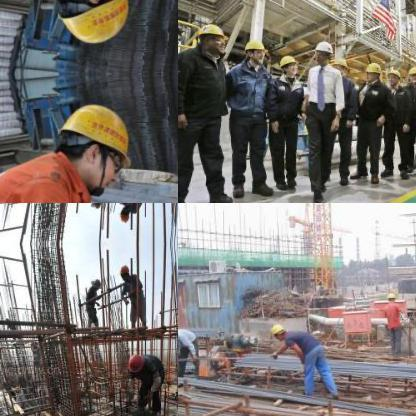Helmet: (50, 94, 140, 193), (50, 0, 142, 51), (197, 22, 227, 54), (243, 36, 266, 64), (312, 39, 332, 63), (277, 52, 297, 74), (124, 349, 142, 373), (362, 60, 380, 82), (268, 323, 288, 339), (330, 53, 346, 72), (386, 65, 400, 85), (116, 264, 128, 280), (116, 204, 128, 220), (407, 63, 415, 83), (384, 290, 396, 302)
